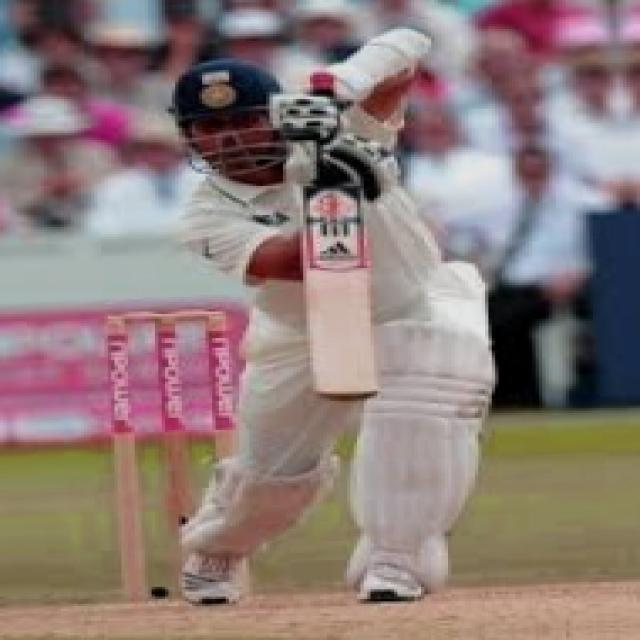bat: (300, 185, 381, 406)
toe: (315, 389, 376, 406)
